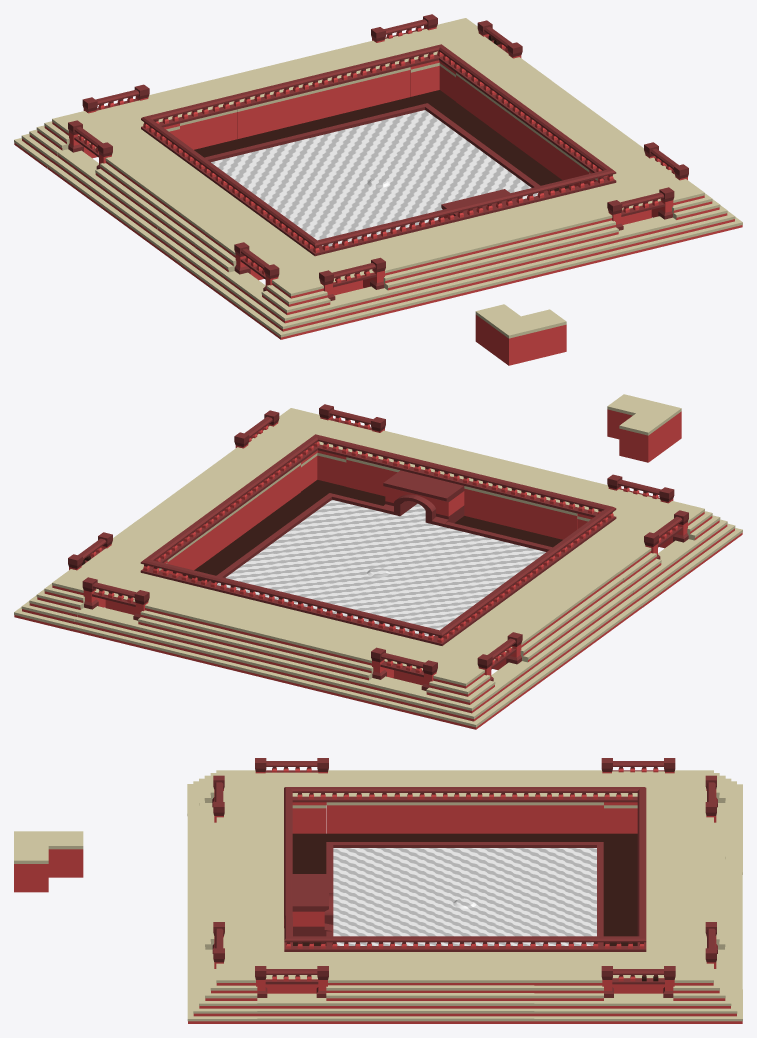
File: dungeon arena.obj
The picture shows the model from 3 angles, top to bottom: view 1: azimuth 30°, elevation 25°; view 2: azimuth 150°, elevation 25°; view 3: azimuth 270°, elevation 25°; orthographic projection. The views are drawn at different scales.
Parts seen in each view (by area): view 1: mergedBlocks; view 2: mergedBlocks; view 3: mergedBlocks.
Boxes of the visible parts, bbox=[...] form: mergedBlocks: bbox=[14, 14, 742, 365]; mergedBlocks: bbox=[14, 394, 742, 729]; mergedBlocks: bbox=[14, 758, 742, 1023].
Size of the model in its own units: 16.01 by 2.4 by 21.01.
Materials: 5 (1 with a texture image).
